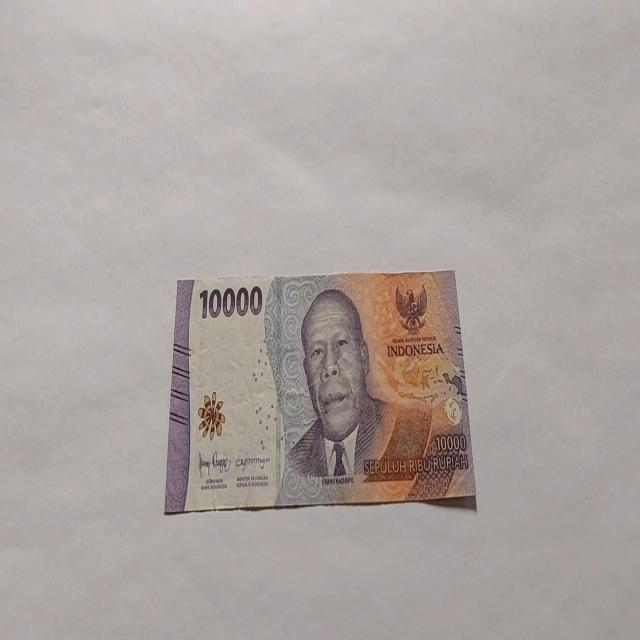sepuluh ribu rupiah: (163, 268, 477, 514)
